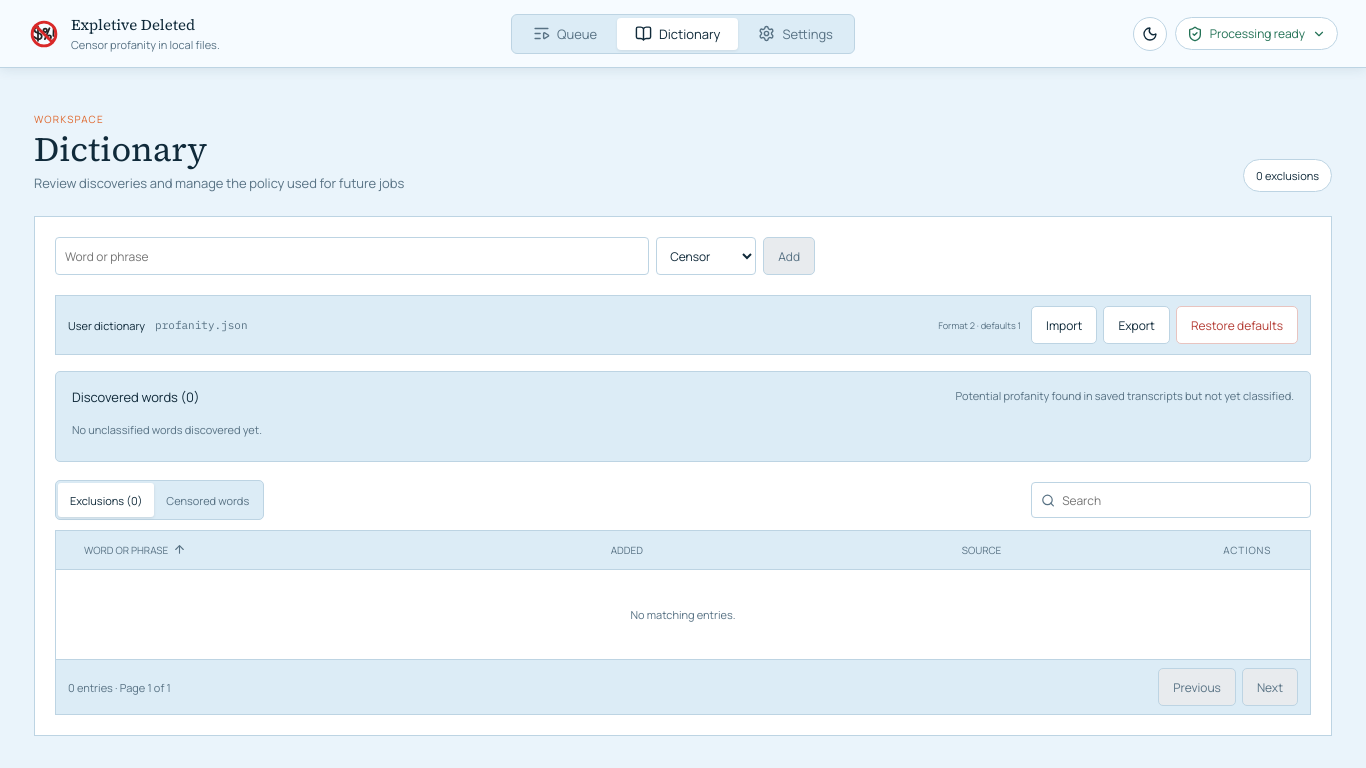
Test case: desktop application renderer › shows native Export picker failures
Click the button "Export": [1137, 325] box 1103,306 -> 1170,344
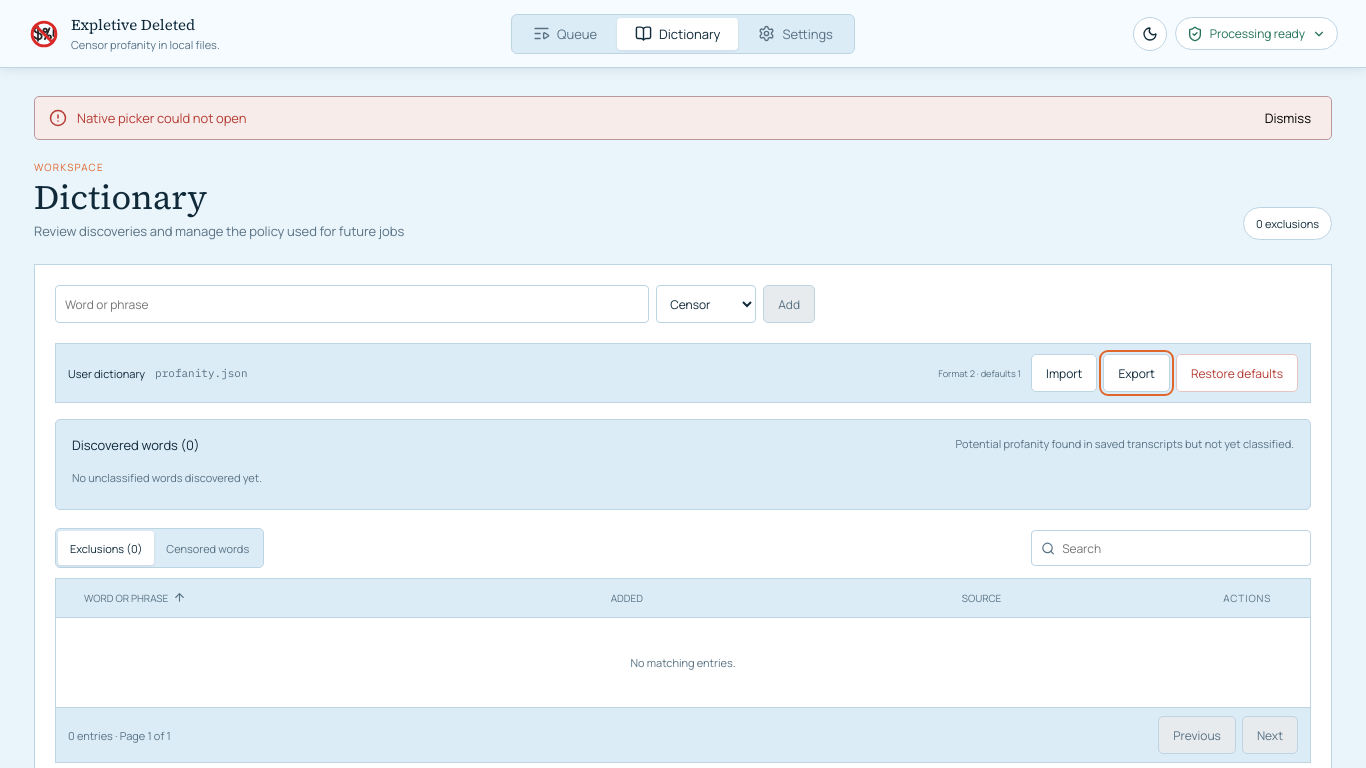
Check: the text "Native picker could not open" is shown, box 77,109 -> 246,127
